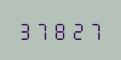eight: (52, 20, 68, 40)
seven: (35, 20, 51, 40), (86, 20, 102, 40)
three: (18, 20, 34, 40)
two: (69, 20, 85, 40)
